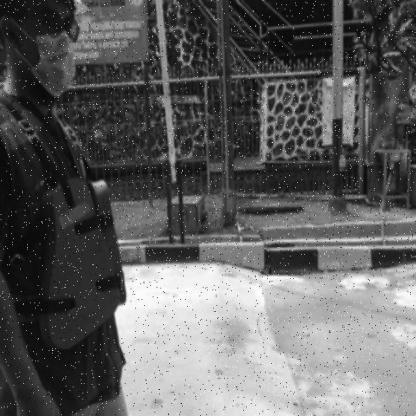mask: (31, 32, 81, 100)
vest: (28, 172, 130, 354)
